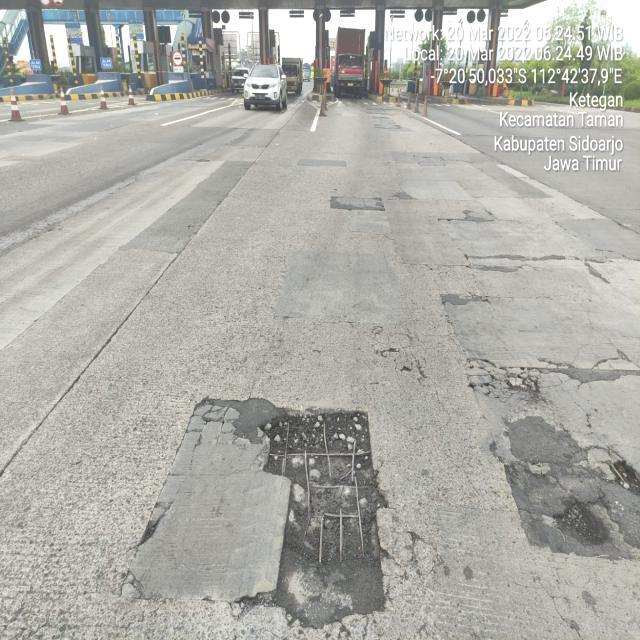Buraco: (231, 404, 396, 632), (535, 493, 640, 560), (604, 458, 640, 498)
